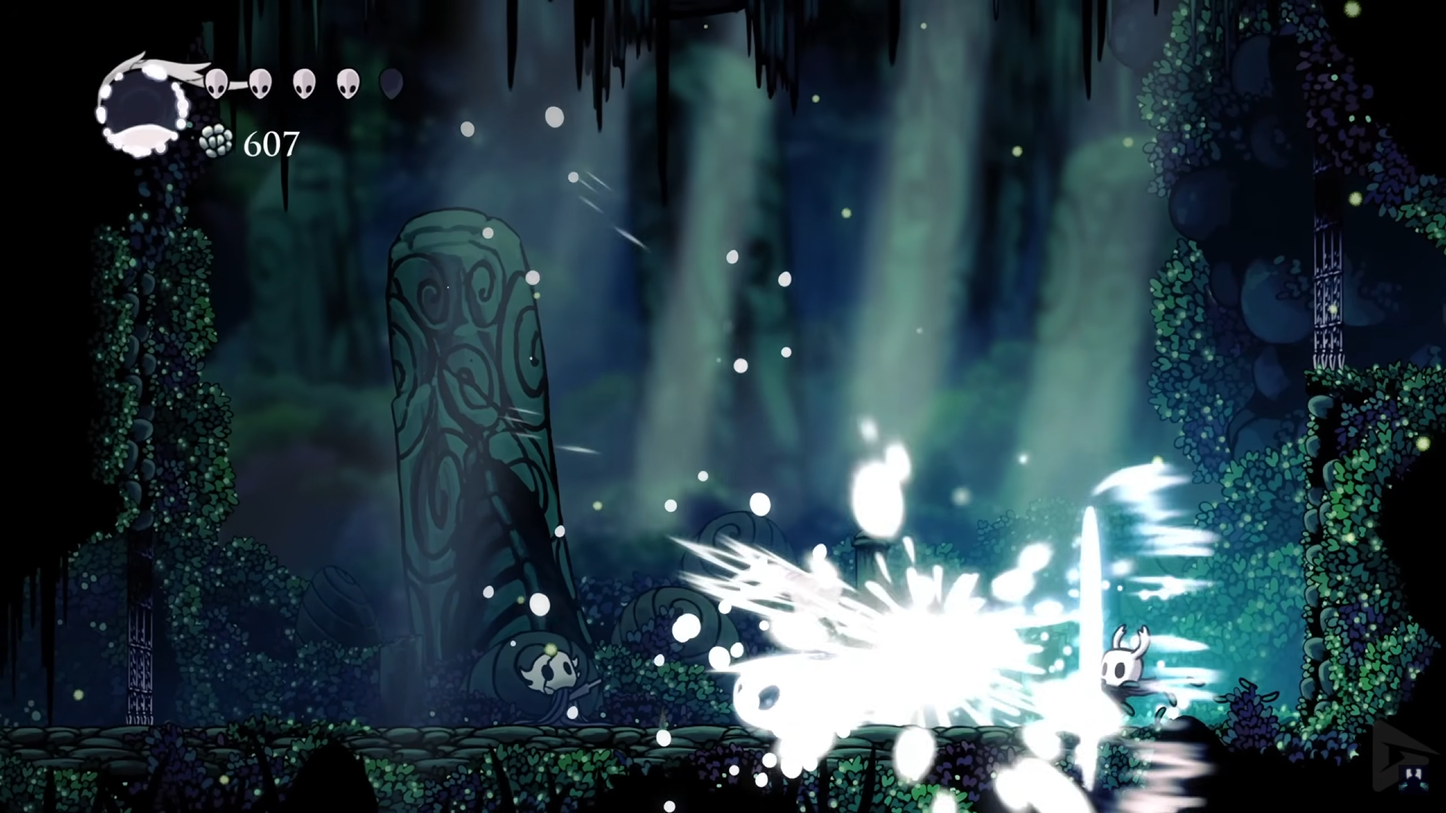HK: (1095, 620, 1154, 727)
